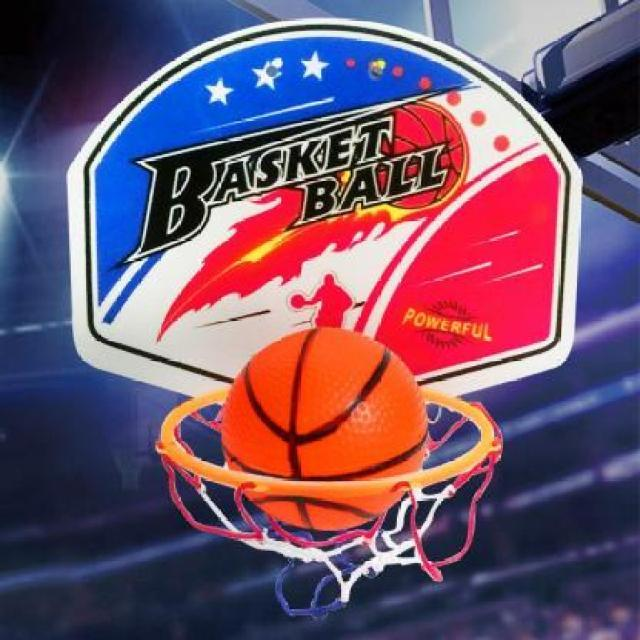basketball: (220, 326, 428, 530)
